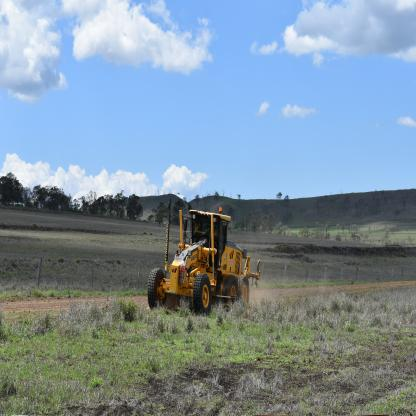bull_dozer/loader/grader: (136, 200, 274, 323)
